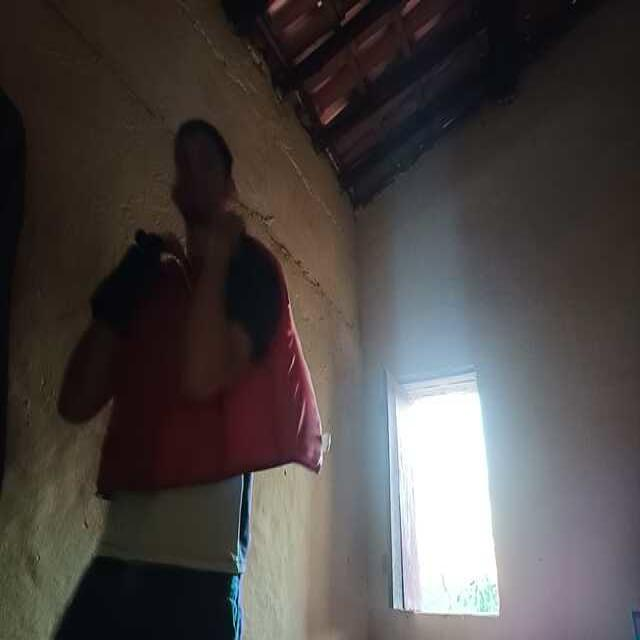colete: (71, 267, 325, 478)
pessoa: (70, 124, 282, 640)
